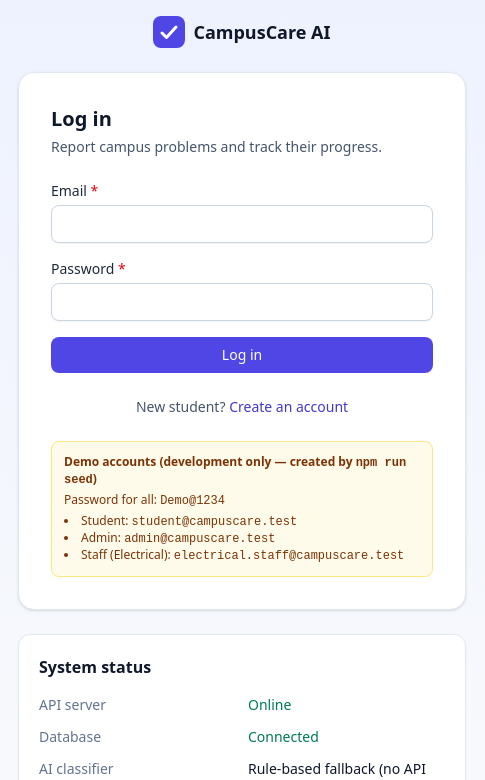
Test: LoginPage › shows the server error for wrong credentials
Type "student@x.test" into the field labelled "Email *" at (242, 224), box [51,205,433,243]
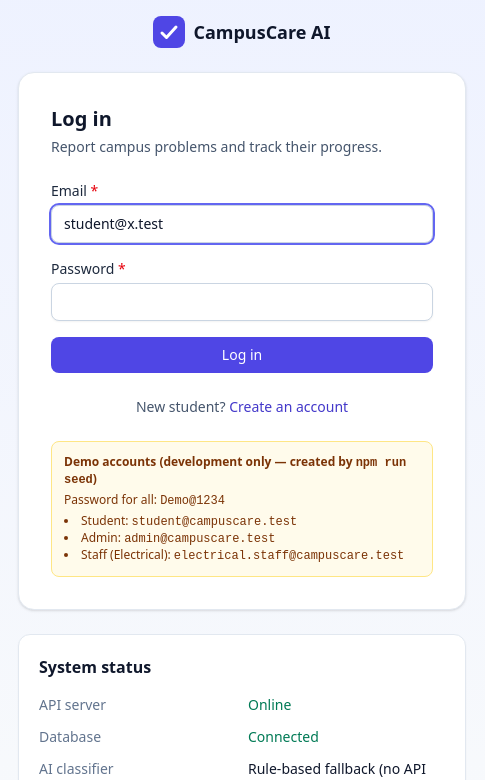
Type "Passw0rd!" into the password field labelled "Password *" at (242, 302), box [51,283,433,321]
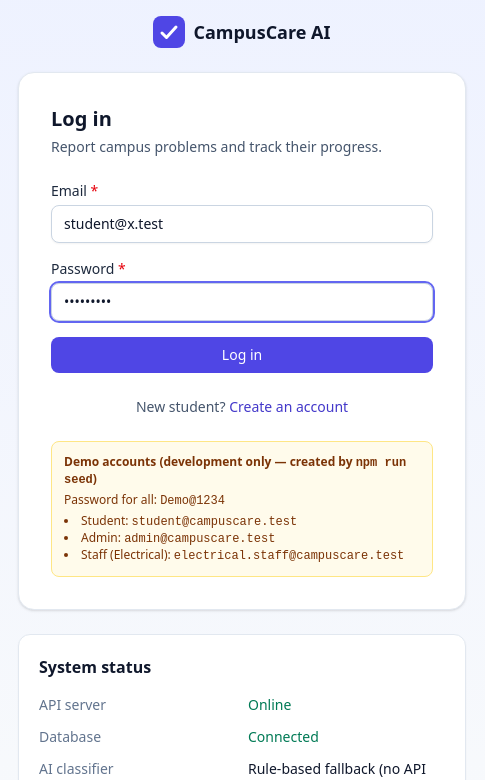
Click the button "Log in" at (242, 355), box [51,337,433,373]
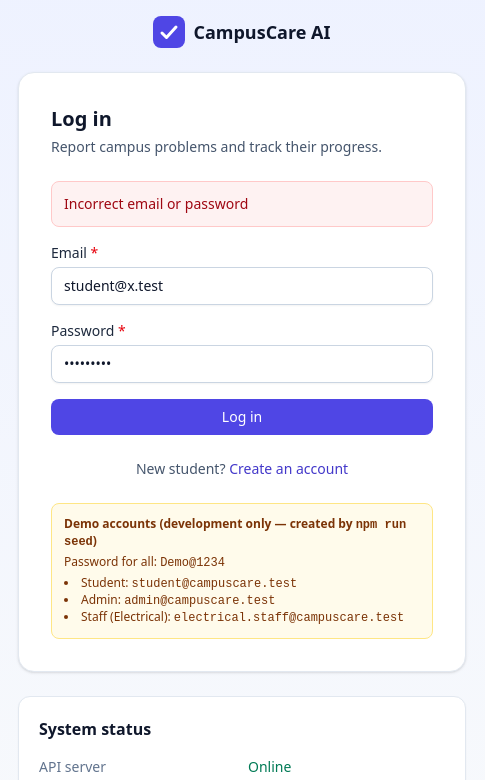
Expected: the message reads "Incorrect email or password", [64,194,248,213]
